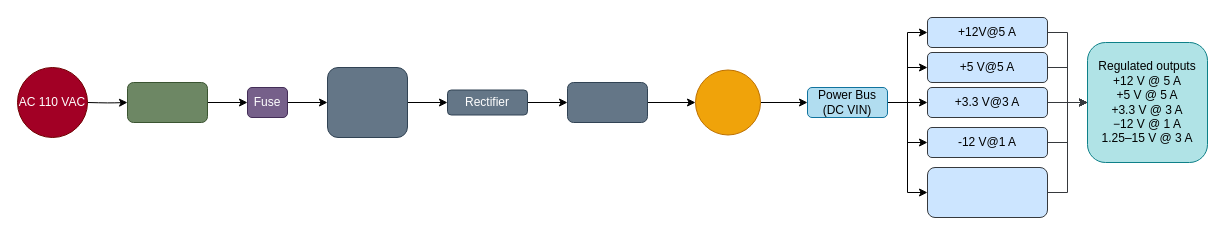
The diagram is 1225 pixels wide and 235 high, and some of its shapes have lost their labels. The centre of each missing label's shape, as x and y in pixels:
"24 VDC @ 10 A" goes at point 727,102.
"Filtered EMI o Notch" goes at point 607,102.
"Salida Variable (1.25–15 V) 3 A" goes at point 987,192.
"Switch ON/OFF" goes at point 167,102.
"Transformer 110 VAC 24VDC @ 5A" goes at point 367,102.
